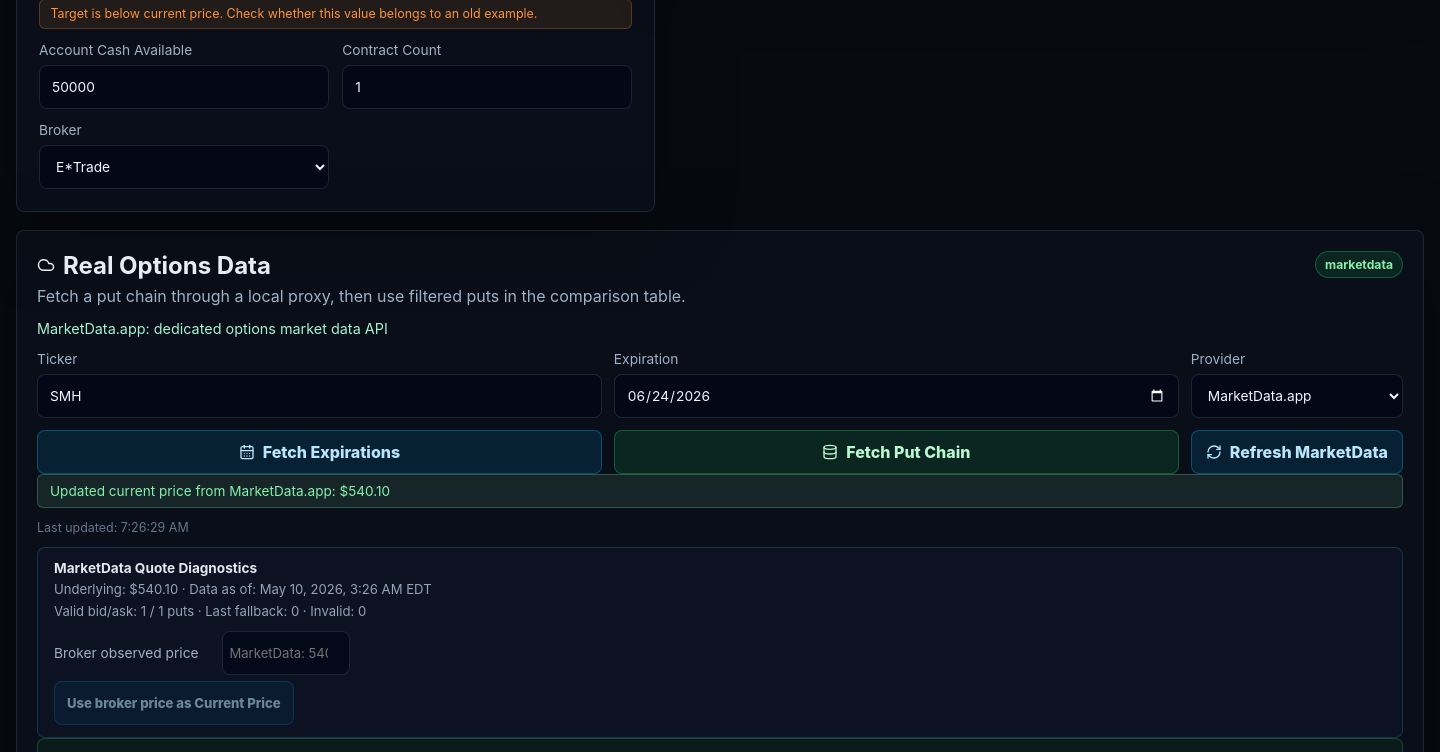
Test case: App › uses broker observed price as current price from quote diagnostics
(page scrolled)
Select "MarketData.app" in the dropdown named "options provider" at (1297, 396), box [1191,374,1403,418]
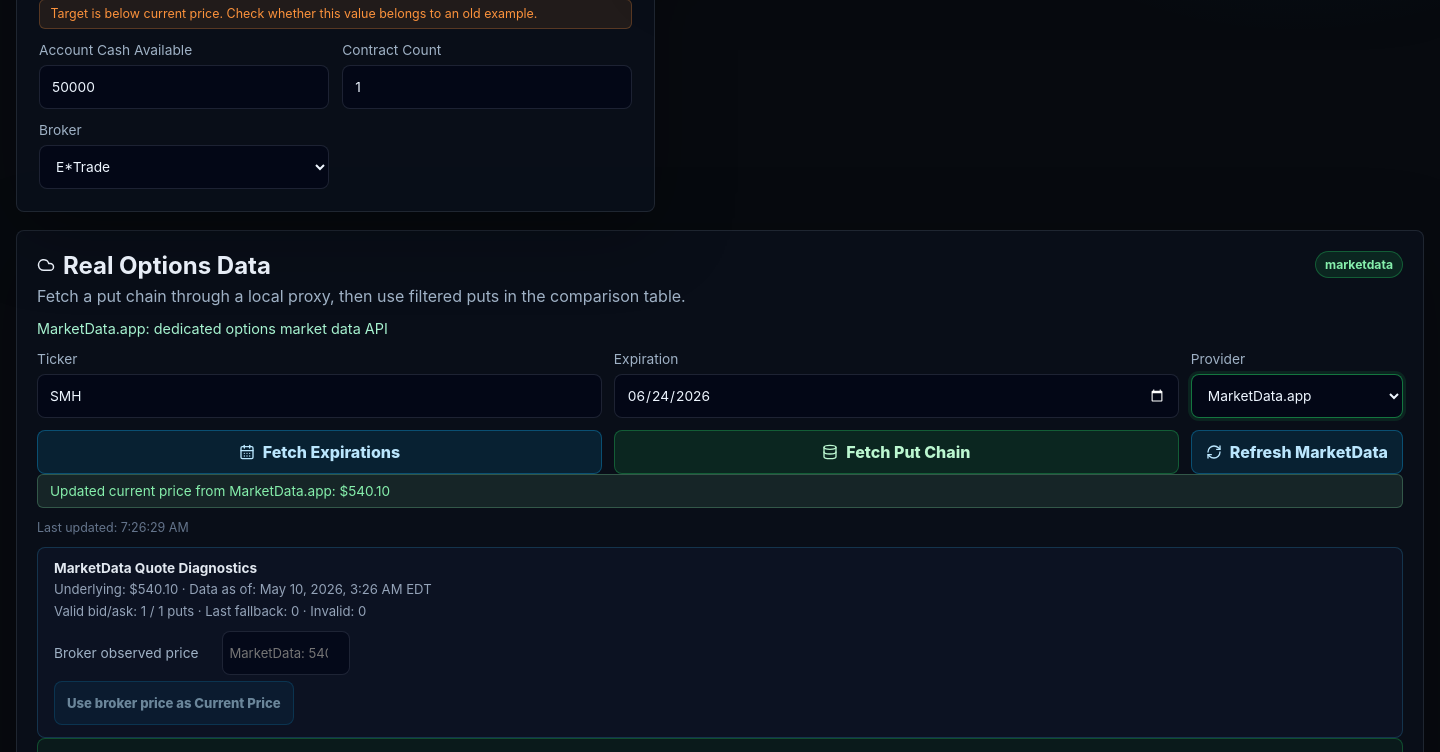
Click the button "Fetch Put Chain".
click(896, 452)  # box [614,430,1179,474]
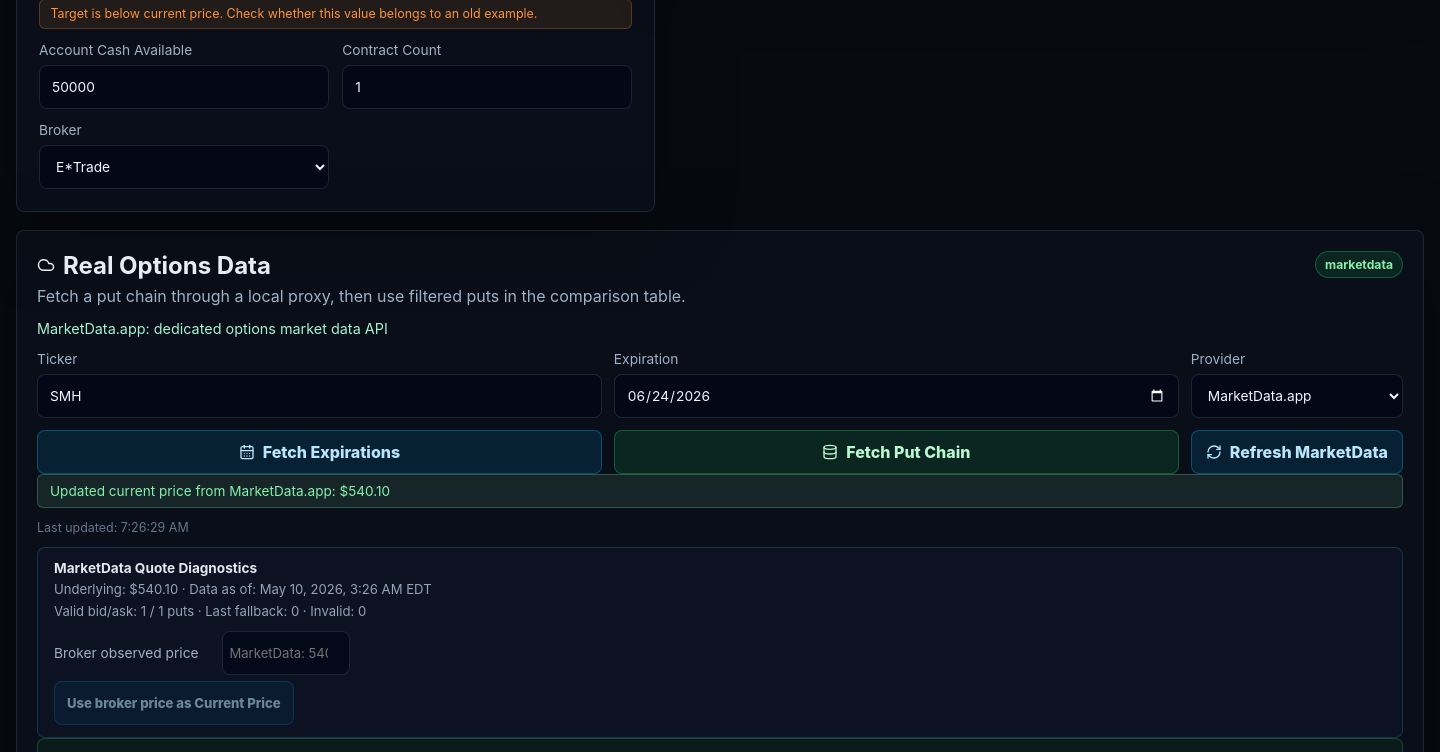
Expected: the text "Updated current price from MarketData.app: $540.10" is shown, [37,474,1403,508]
Type "568.05" into the number field named "Broker observed underlying price".
click(286, 653); type("568.05")  # box [222,631,350,675]
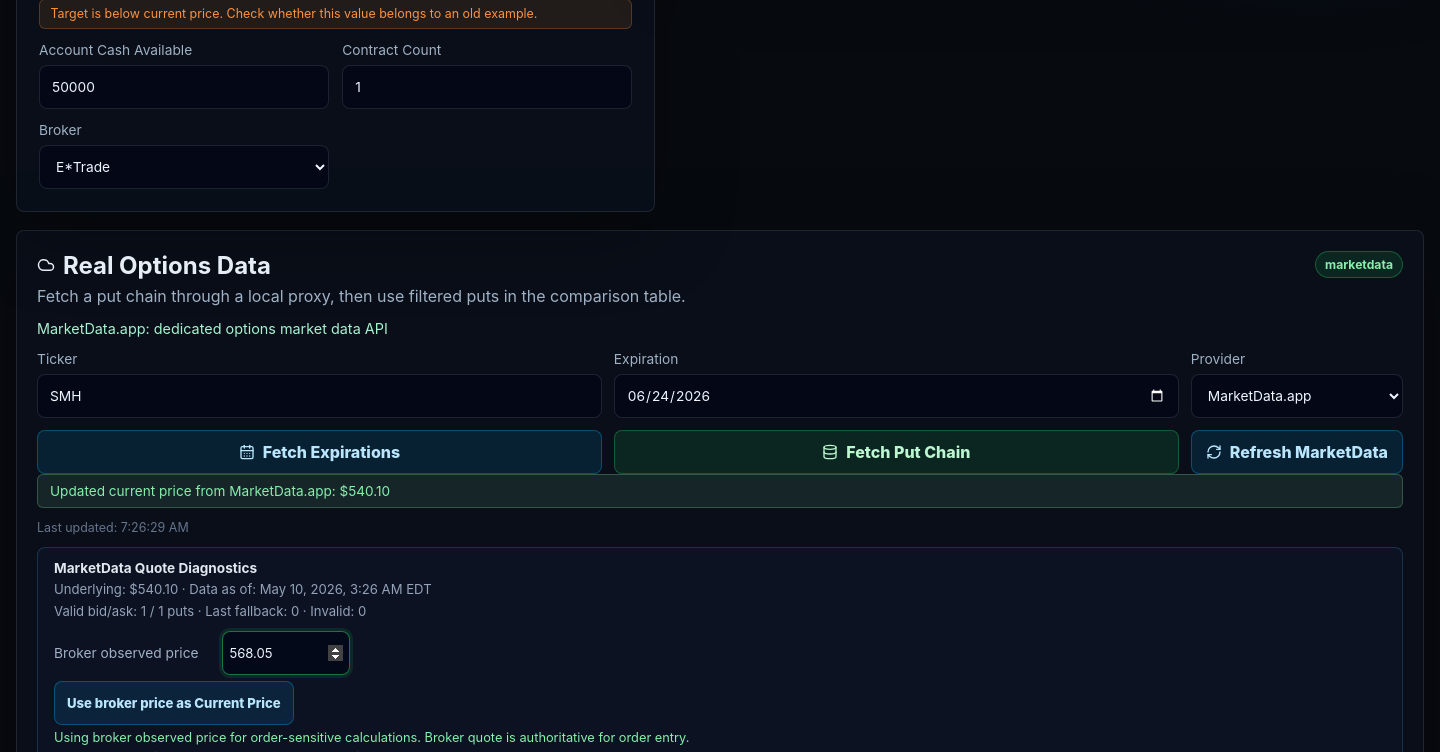
Expected: the text "Broker quote is authoritative for order entry" is shown, [54,730,689,745]
Click the button "Use broker price as Current Price".
click(174, 703)  # box [54,681,294,725]
(page scrolled)
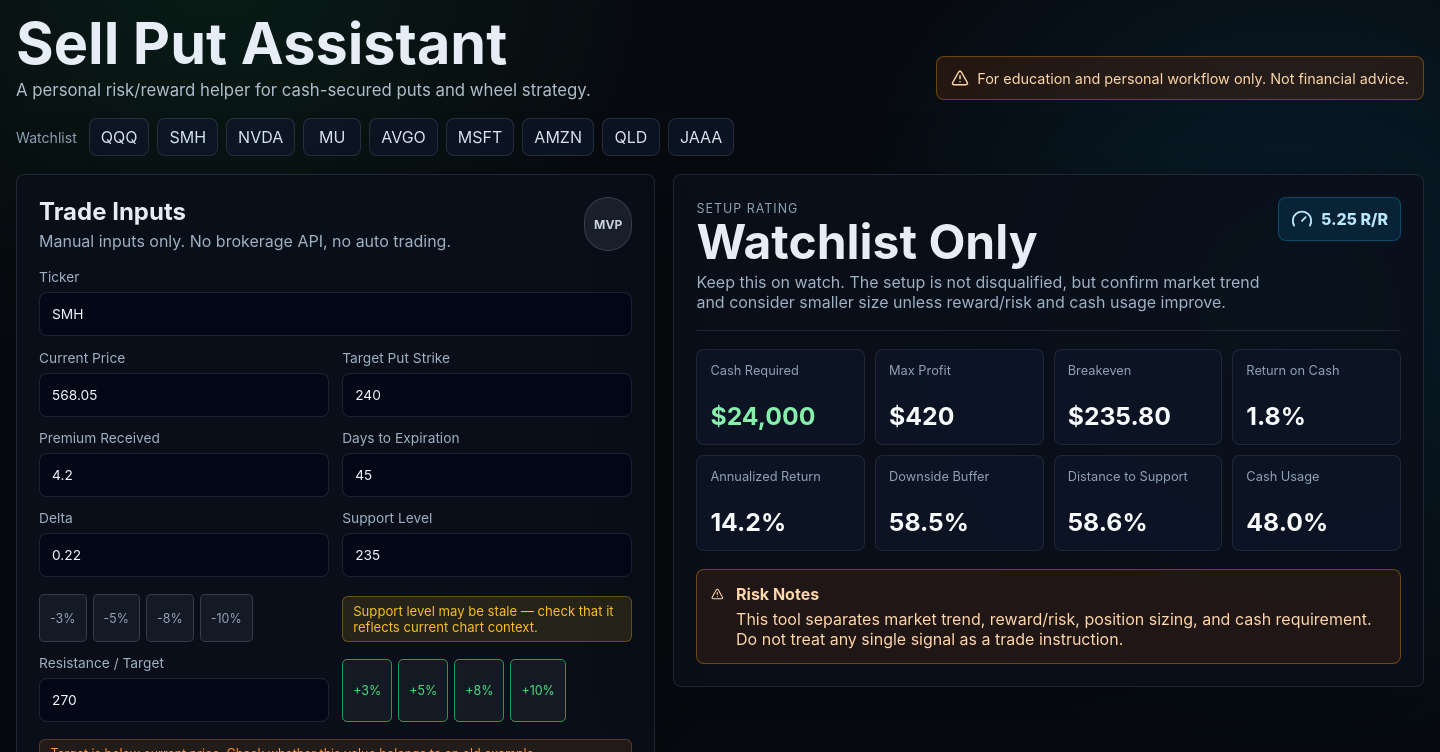
Expected: the number field labelled "Current Price" holds "568.05", [39,373,329,417]
